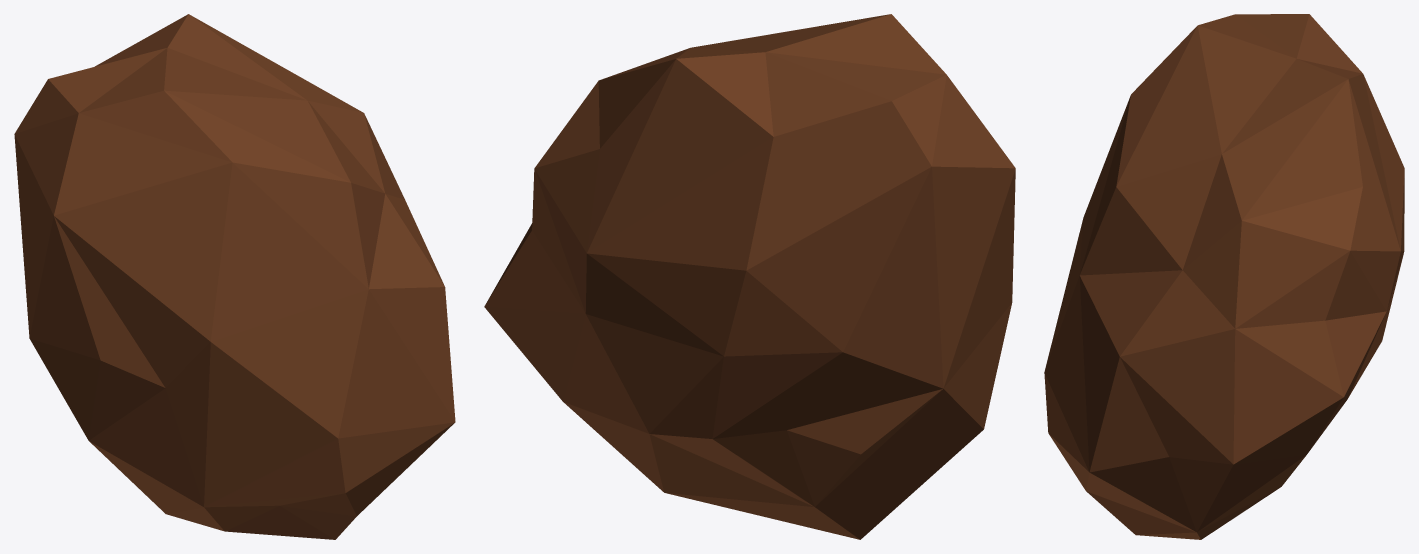
The model's file is Boulder_08_Massive.obj.
The picture shows the model from 3 angles, left to right: view 1: azimuth 30°, elevation 25°; view 2: azimuth 150°, elevation 25°; view 3: azimuth 270°, elevation 25°; orthographic projection. The views are drawn at different scales.
Parts seen in each view (by area): view 1: Boulder_08_Massive; view 2: Boulder_08_Massive; view 3: Boulder_08_Massive.
Boxes of the visible parts, box(x1,y1,x2,y2) form: Boulder_08_Massive: box(14, 14, 455, 539); Boulder_08_Massive: box(484, 14, 1015, 539); Boulder_08_Massive: box(1044, 14, 1404, 539).
Size of the model in its own units: 3.67 by 4.08 by 3.
